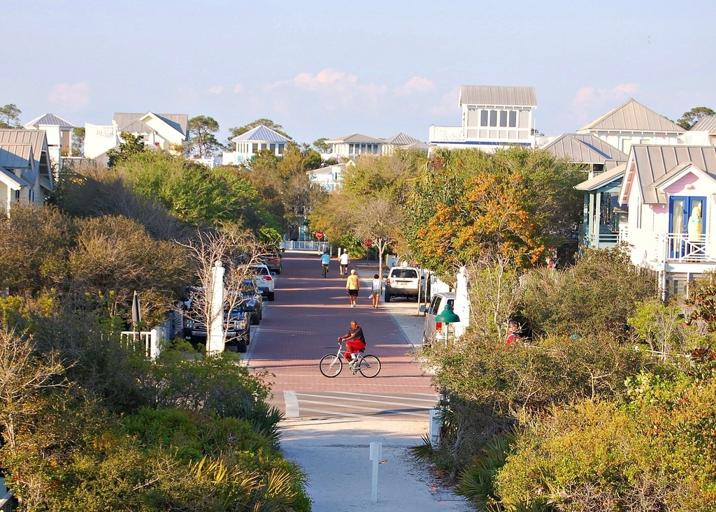non-vehicle: (318, 336, 381, 378), (321, 263, 328, 276), (340, 264, 346, 278)
